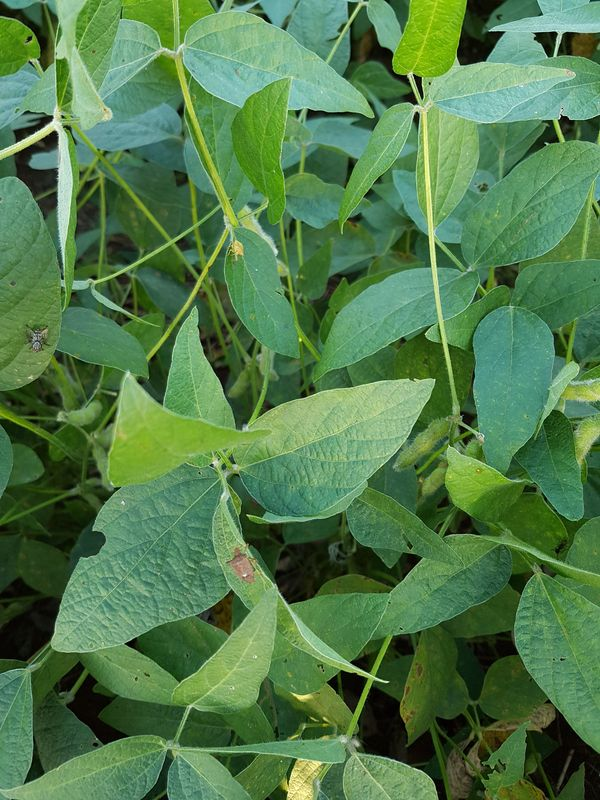Euschistus_heros_adulto: (220, 539, 263, 589)
Euschistus_heros_ninfa: (223, 236, 251, 263)
